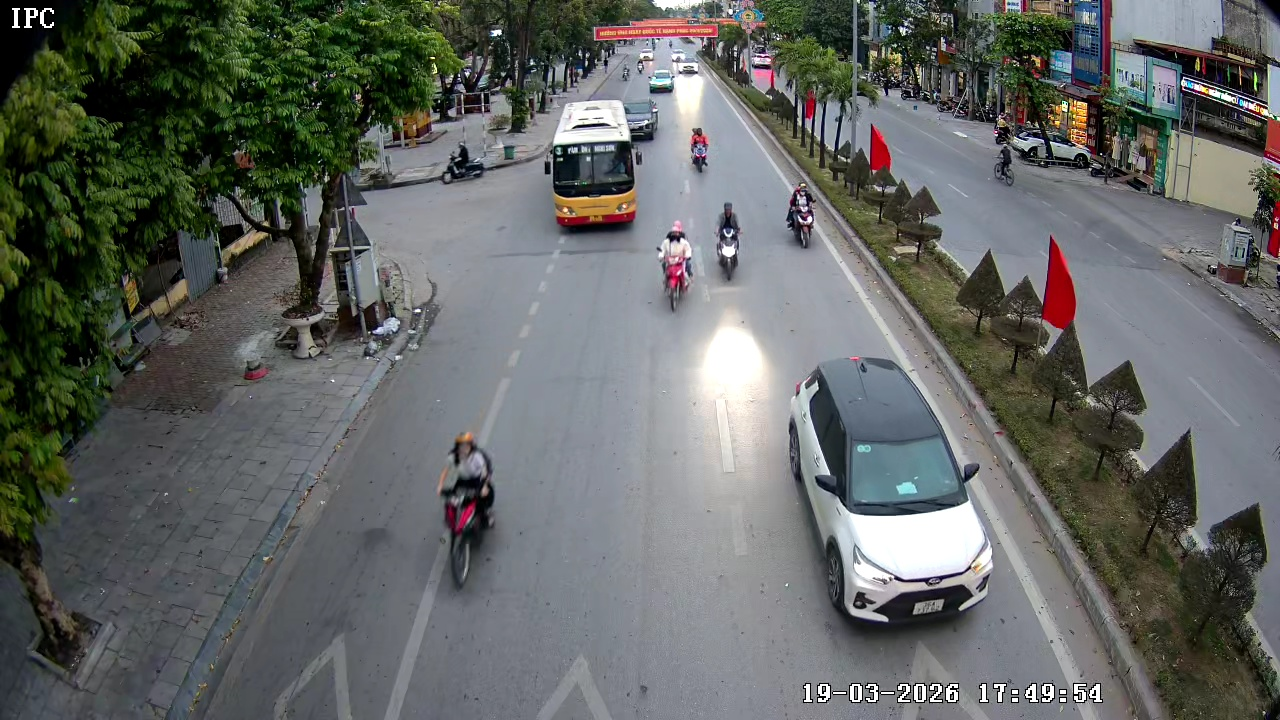bike: (436, 431, 499, 588)
bus: (546, 101, 641, 230)
car: (787, 356, 994, 623), (649, 66, 675, 97), (677, 56, 700, 78)
motorbike: (655, 222, 696, 313), (712, 200, 745, 283), (783, 181, 819, 249), (686, 121, 711, 173)
